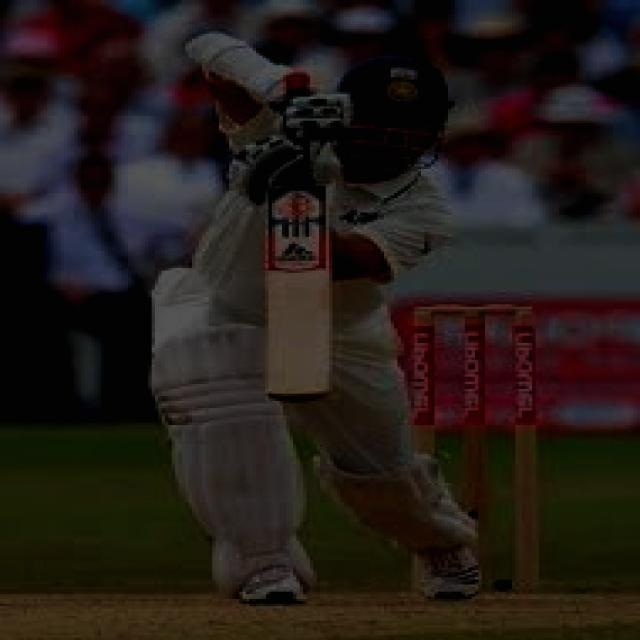bat: (255, 184, 339, 405)
toe: (264, 389, 333, 404)
